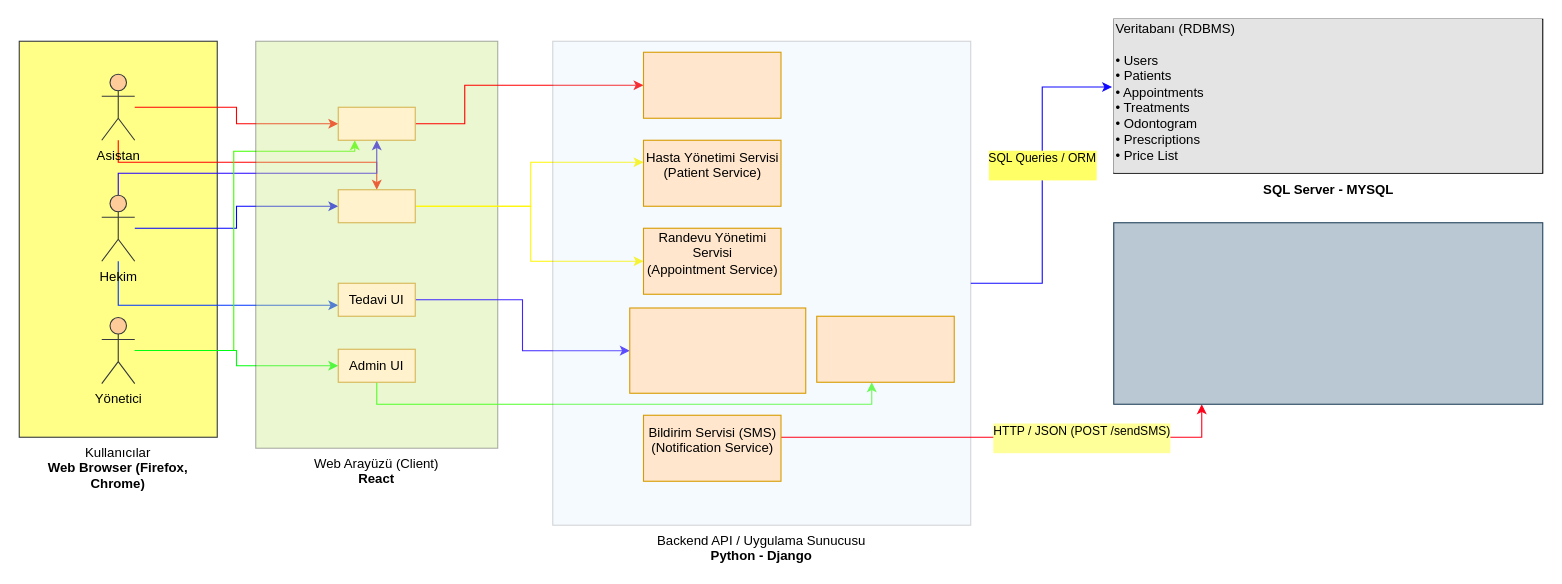
The diagram is 1562 pixels wide and 584 high, and some of its shapes have lost their labels. Each missing label, with the centre of its shape:
"Admin Yönetimi Servisi (User, PriceList)" belongs at [885,348].
"Auth & RBAC (Login, Rol Kontrol)" belongs at [711,84].
"Hasta / Randevu UI" belongs at [376,206].
"Login UI" belongs at [376,123].
"SMS / WhatsApp Servisi (3rd Party API)" belongs at [1328,313].
"Tedavi & Odontogram Servisi (Treatment Service)" belongs at [717,350].
